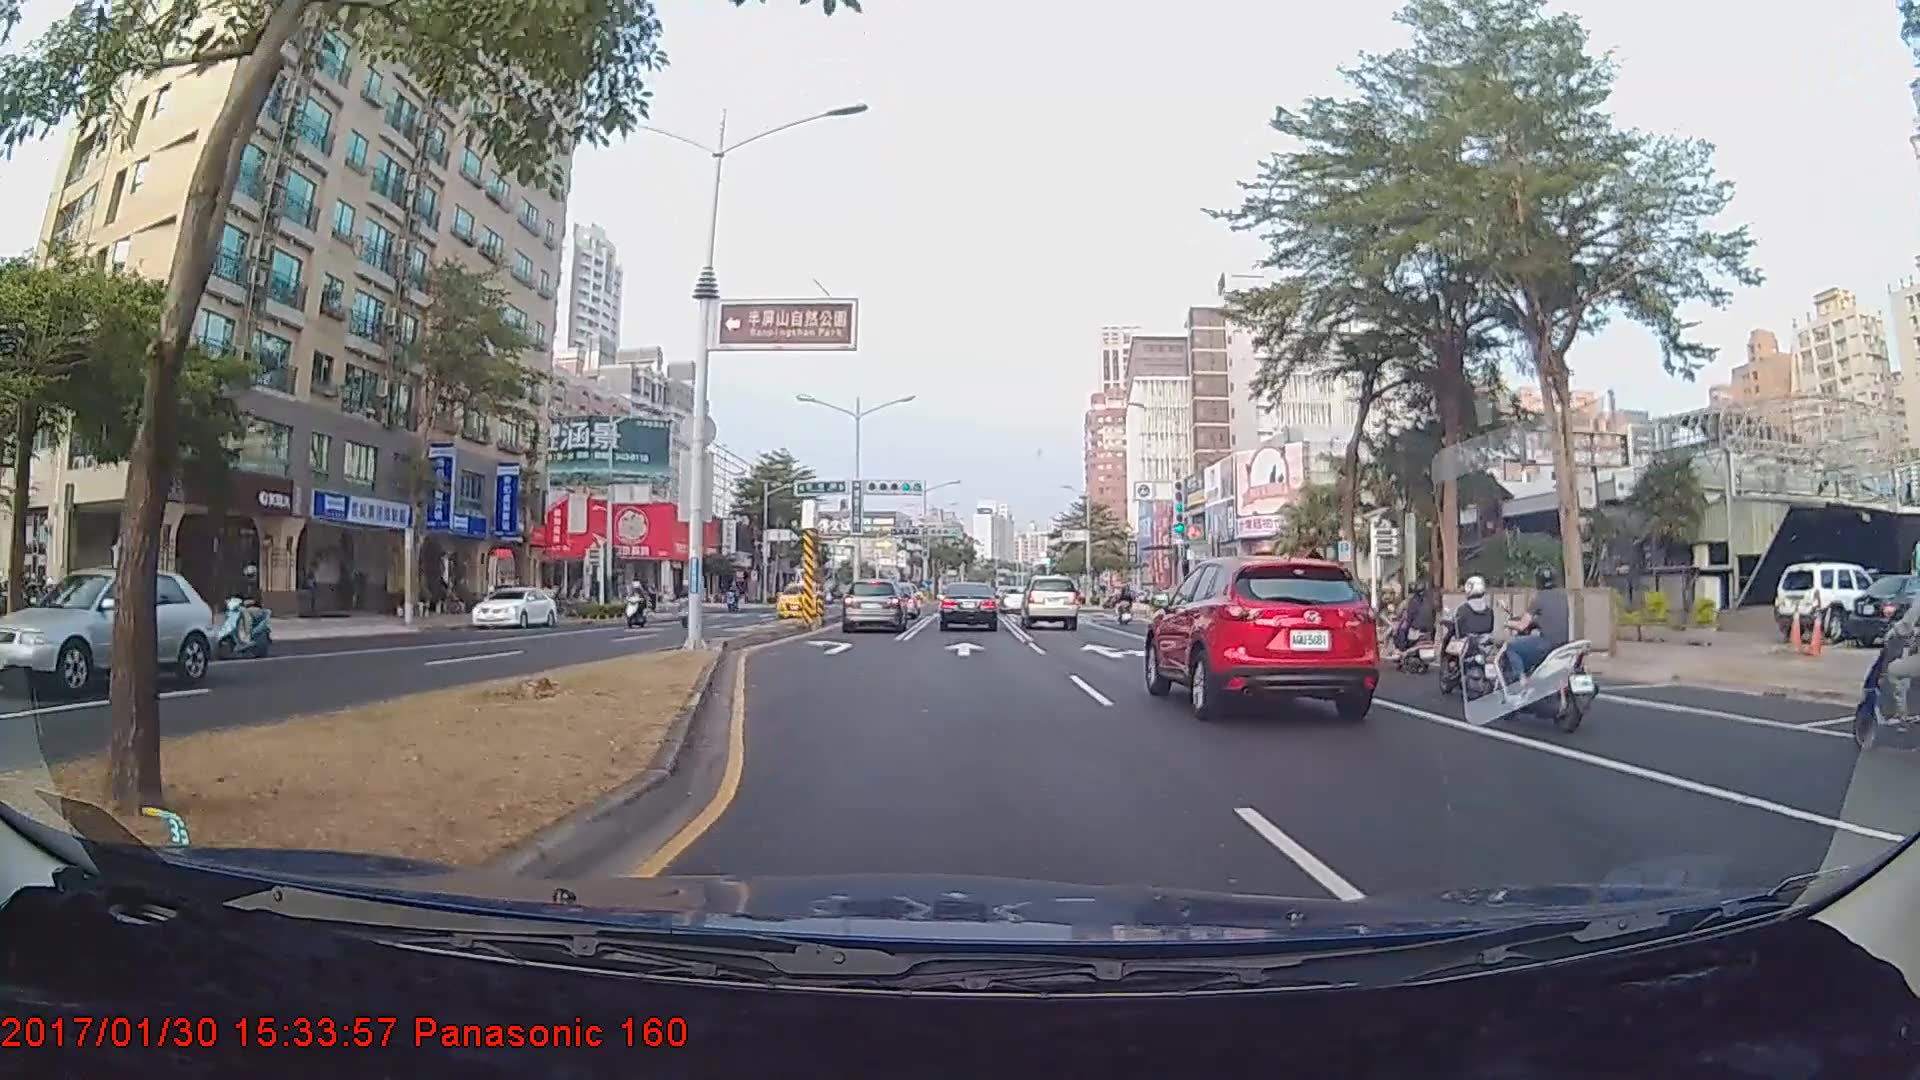rider: (1490, 565, 1603, 734), (1432, 569, 1509, 694), (214, 569, 281, 664), (1383, 575, 1443, 673), (617, 576, 654, 638)
vehicle: (1148, 550, 1382, 718), (0, 568, 214, 695), (1771, 563, 1882, 639), (471, 585, 556, 631), (840, 578, 909, 634), (1021, 573, 1080, 631), (937, 581, 999, 632), (776, 581, 826, 617)
